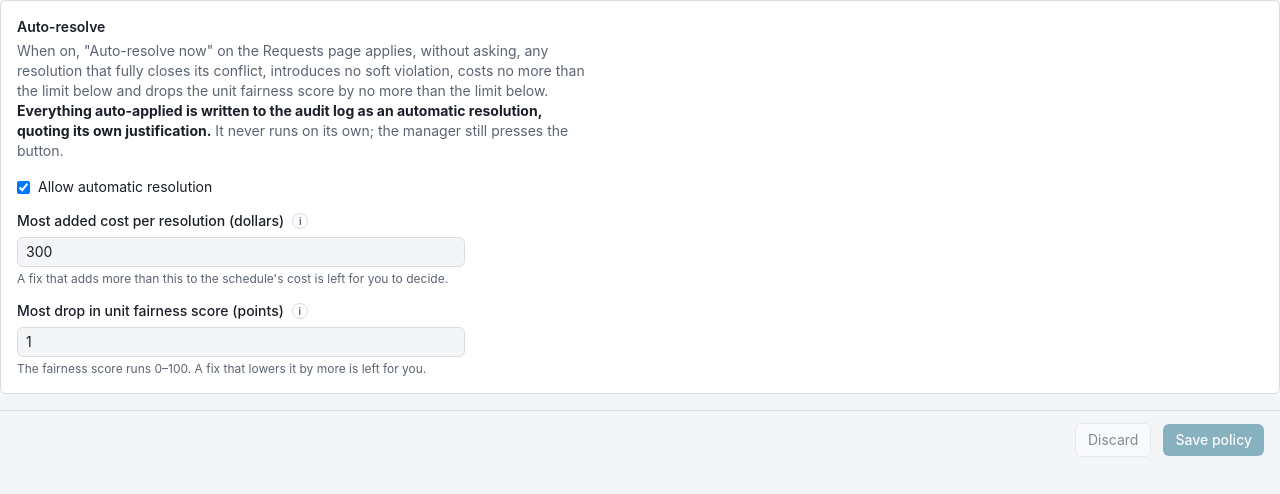
Settings › Conflicts › does not save a cleared fairness limit as zero
Clear the number field labelled "Most drop in unit fairness score (points)" at [241, 342], box [17,327,465,357]
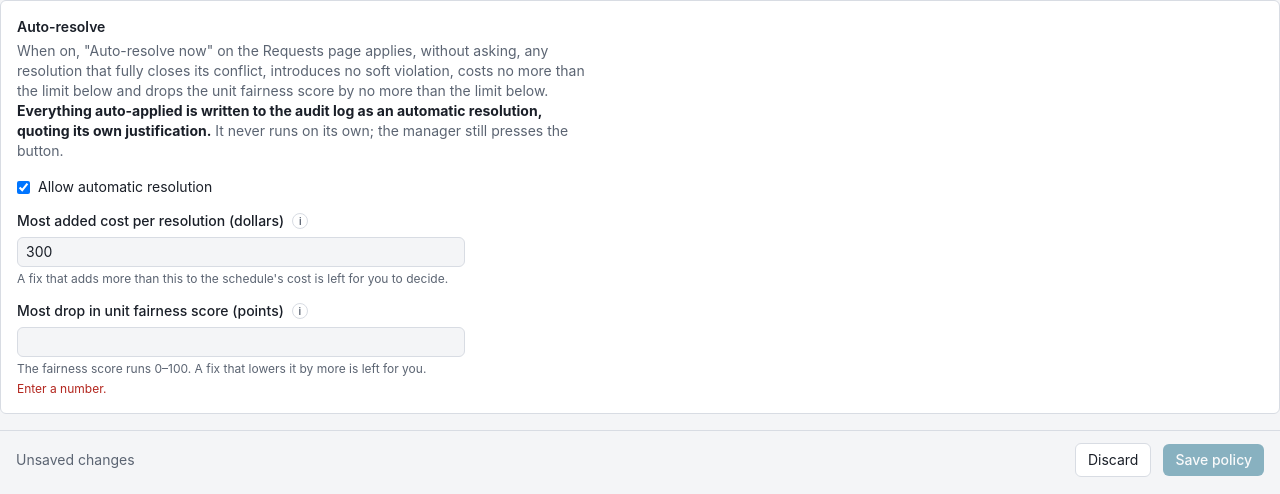
Expected: the button "Save policy" is disabled, [1164,444,1264,476]
Now the text "Enter a number." is shown, box [17,381,106,396]
